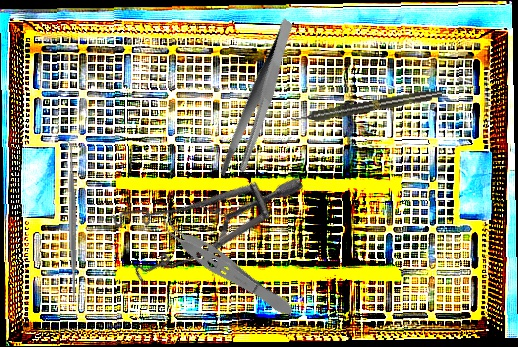Dressing Forceps: (188, 18, 331, 184)
Handpiece: (290, 86, 443, 127)
Spatula Surgical: (61, 139, 83, 303)
Speculum: (88, 100, 308, 324)
Tissue Forceps: (152, 209, 299, 323)
